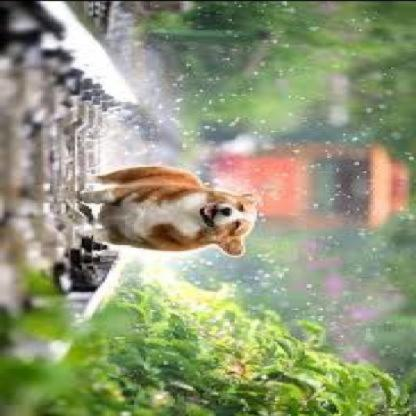dog: (78, 163, 261, 258)
